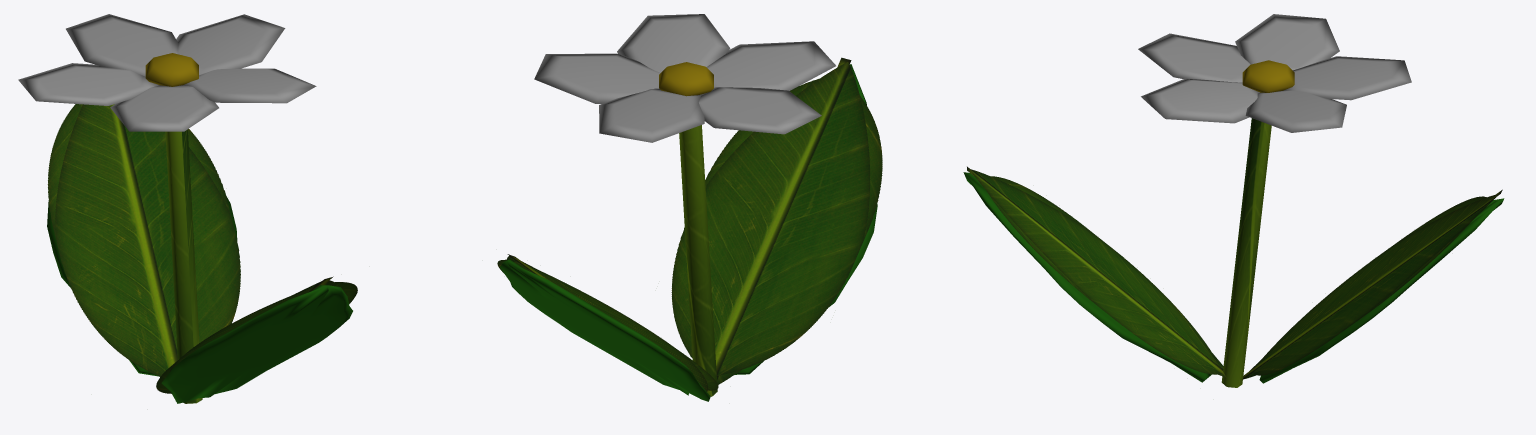
The model's file is flower.glb.
3 views of the same model, side by side, from view 1: azimuth 30°, elevation 25°; view 2: azimuth 150°, elevation 25°; view 3: azimuth 270°, elevation 25° (orthographic). The views are drawn at different scales.
Parts seen in each view (by area): view 1: Merged batch 1; view 2: Merged batch 1; view 3: Merged batch 1.
Boxes of the visible parts, x1,y1,x2,y2 form: Merged batch 1: (18,14,357,403); Merged batch 1: (497,14,882,401); Merged batch 1: (963,14,1504,387).
Size of the model in its own units: 0.7587 by 0.9004 by 1.42.
1 material, 1 textured.
